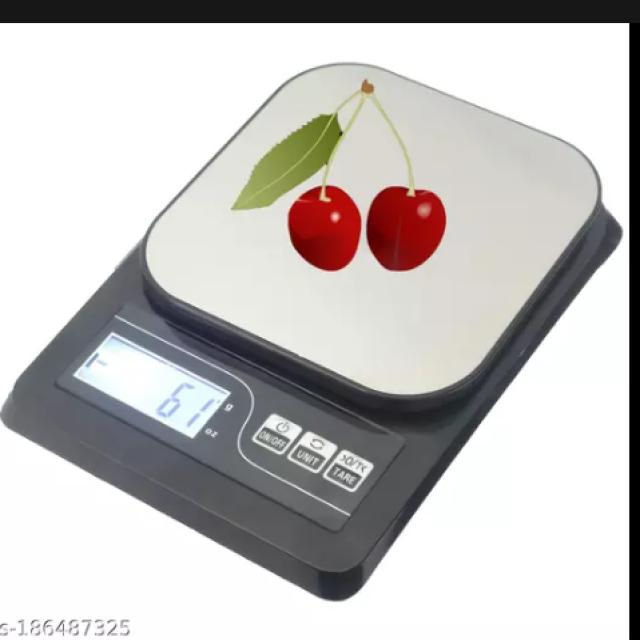1: (187, 388, 221, 436)
6: (156, 378, 195, 420)
screen: (70, 330, 233, 441)
